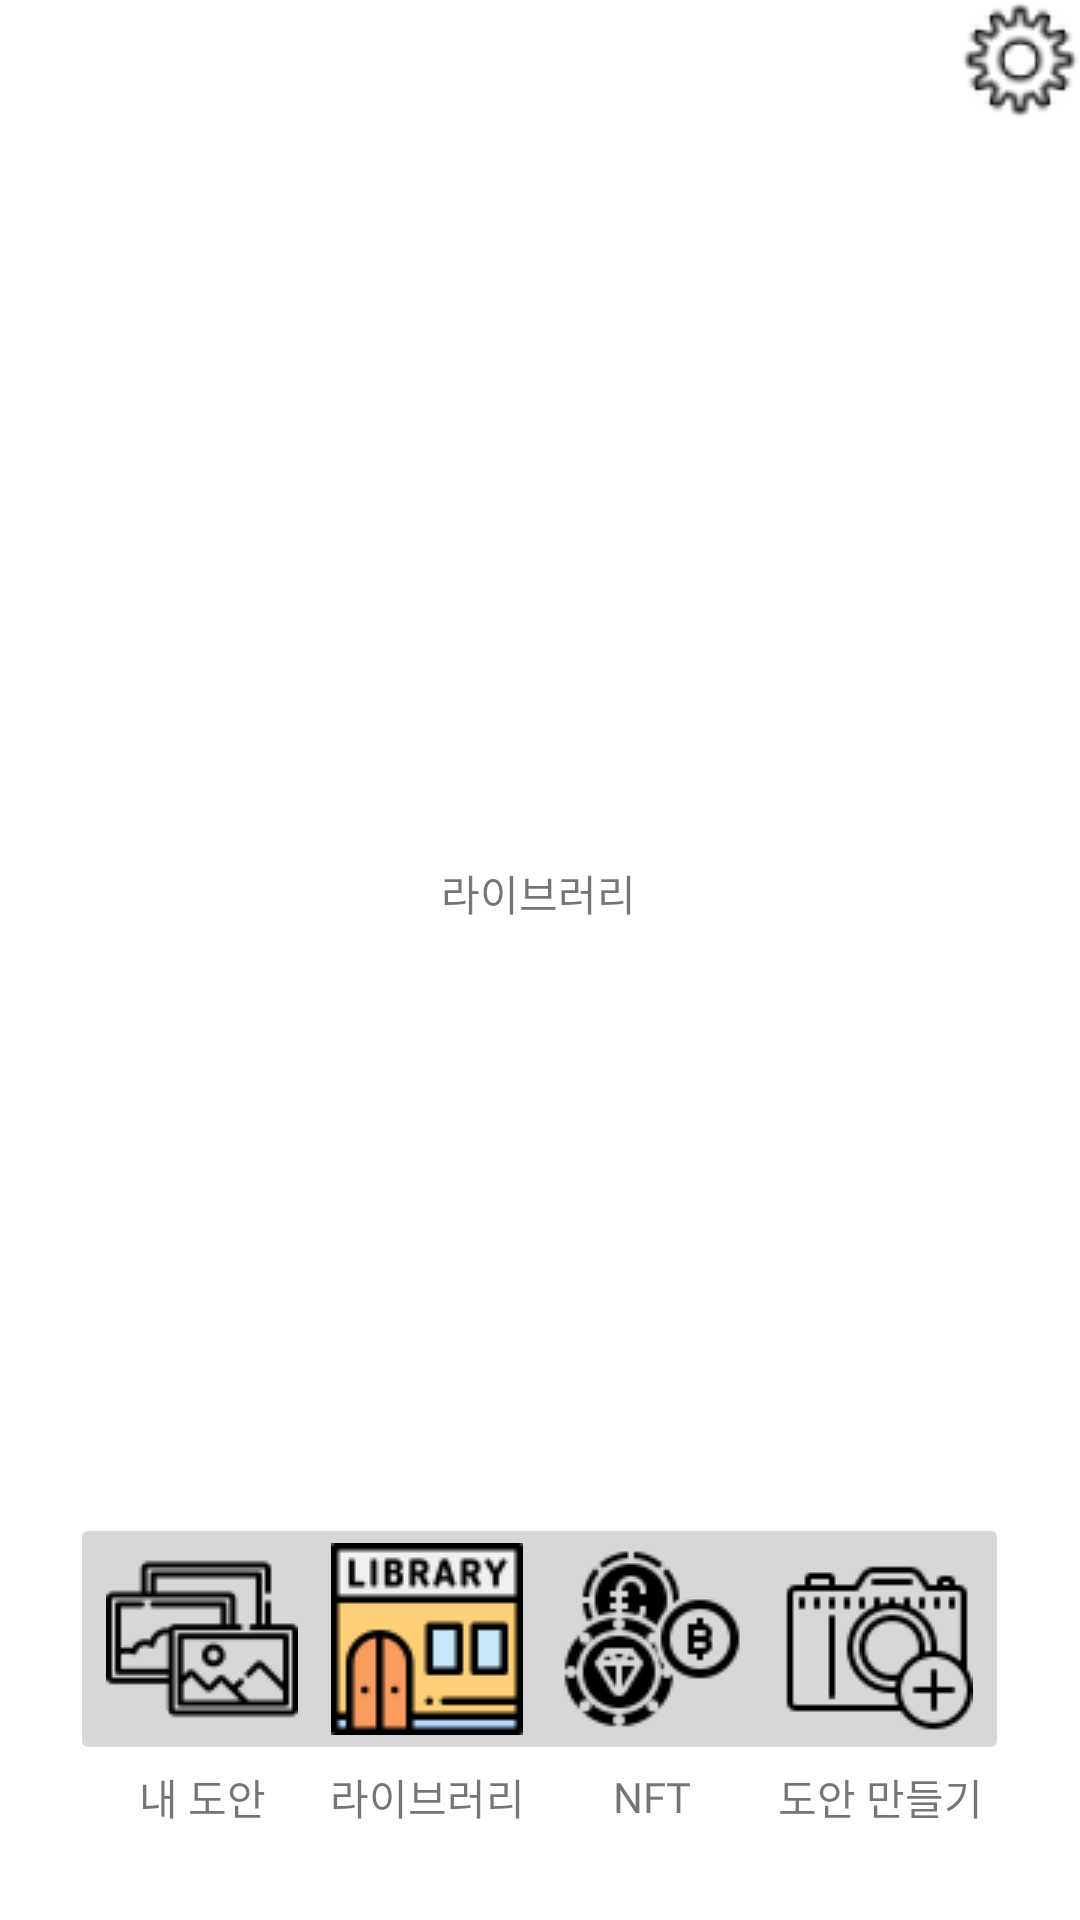

Icon bounding boxes for this 1080x1920 phone screenshot, format (x1=x1, y1=y1, x2=x2, y2=y2):
camera unchecked: (x1=745, y1=1531, x2=997, y2=1747)
setting: (x1=964, y1=4, x2=1076, y2=115)
